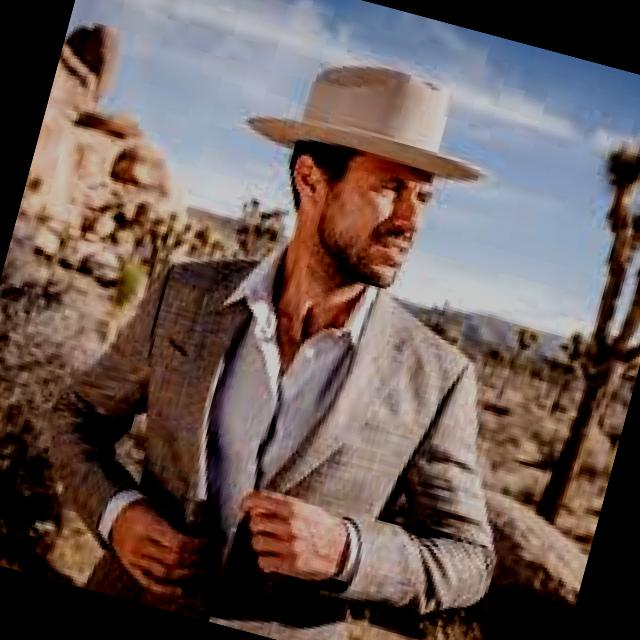hat: (248, 65, 484, 181)
